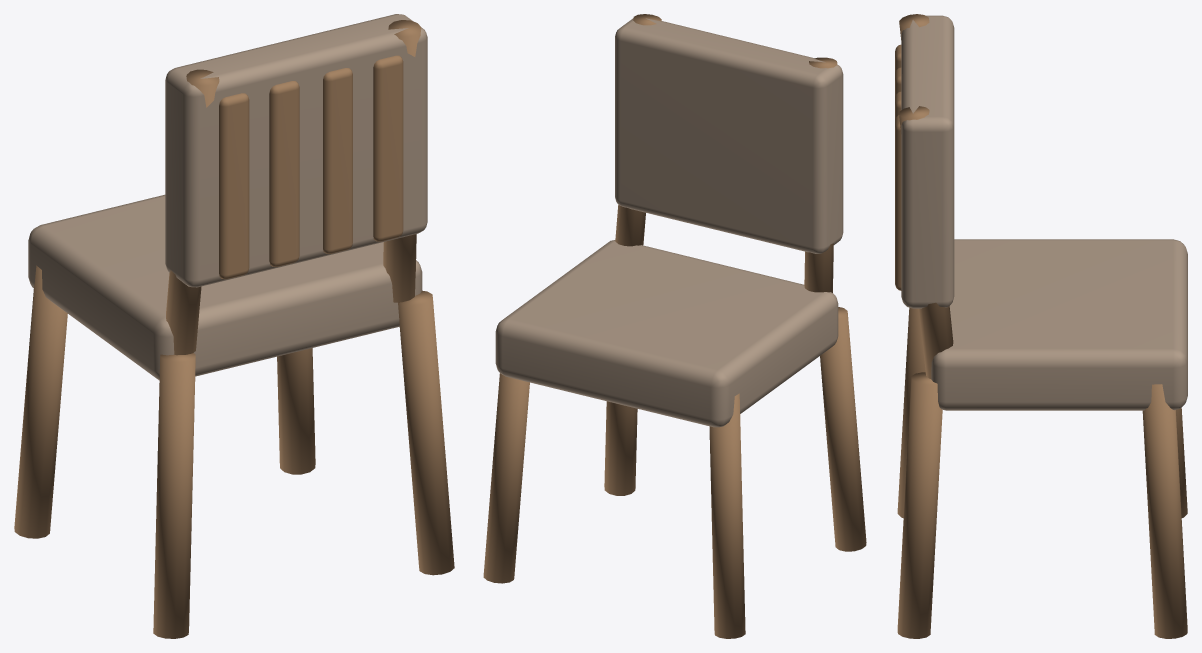
File: cadeira-r-ustica.glb
3 renders of one model, left to right at view 1: azimuth 30°, elevation 25°; view 2: azimuth 150°, elevation 25°; view 3: azimuth 270°, elevation 25°, orthographic. The views are drawn at different scales.
Parts seen in each view (by area): view 1: Encosto, Assento moldado, Pé de madeira, Pé de madeira.002, Pé de madeira.001, Ripa do encosto.003, Ripa do encosto, Ripa do encosto.001, Ripa do encosto.002, Pé de madeira.003, Montante do encosto, Montante do encosto.001; view 2: Encosto, Assento moldado, Pé de madeira.001, Pé de madeira, Pé de madeira.003, Pé de madeira.002, Montante do encosto, Montante do encosto.001; view 3: Assento moldado, Encosto, Pé de madeira.002, Pé de madeira.003, Montante do encosto.001, Pé de madeira, Ripa do encosto.003, Pé de madeira.001.
Part boxes in pixels (x1,y1,x2,y2): Encosto: [165, 14, 427, 287]; Assento moldado: [28, 194, 422, 380]; Pé de madeira: [153, 353, 195, 638]; Pé de madeira.002: [398, 290, 454, 575]; Pé de madeira.001: [14, 265, 67, 538]; Ripa do encosto.003: [373, 55, 403, 241]; Ripa do encosto: [219, 93, 249, 279]; Ripa do encosto.001: [269, 81, 299, 266]; Ripa do encosto.002: [323, 68, 352, 253]; Pé de madeira.003: [277, 348, 315, 474]; Montante do encosto: [166, 69, 219, 355]; Montante do encosto.001: [383, 20, 421, 302]; Encosto: [615, 18, 843, 253]; Assento moldado: [495, 240, 838, 427]; Pé de madeira.001: [709, 393, 745, 638]; Pé de madeira: [820, 307, 866, 551]; Pé de madeira.003: [483, 373, 529, 583]; Pé de madeira.002: [604, 401, 637, 495]; Montante do encosto: [804, 57, 837, 292]; Montante do encosto.001: [615, 14, 661, 246]; Assento moldado: [931, 239, 1187, 410]; Encosto: [901, 15, 954, 308]; Pé de madeira.002: [897, 372, 942, 638]; Pé de madeira.003: [1142, 384, 1187, 638]; Montante do encosto.001: [899, 106, 953, 378]; Pé de madeira: [897, 307, 925, 518]; Ripa do encosto.003: [895, 115, 901, 290]; Pé de madeira.001: [1176, 408, 1187, 517].
Size of the model in its own units: 0.45 by 0.7974 by 0.4161.
